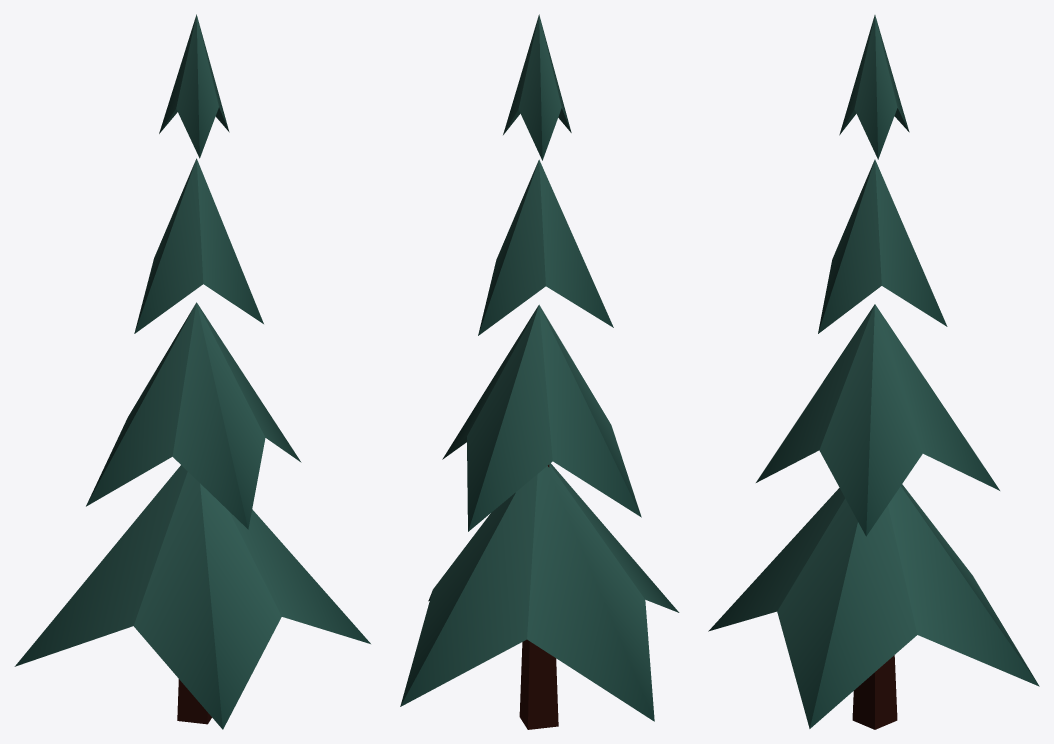
Rendered from rs_spruce_a_far.glb.
3 views of the same model, side by side, from view 1: azimuth 30°, elevation 25°; view 2: azimuth 150°, elevation 25°; view 3: azimuth 270°, elevation 25° (orthographic).
Visible parts, largest first — view 1: spruce_crown, spruce_trunk; view 2: spruce_crown, spruce_trunk; view 3: spruce_crown, spruce_trunk.
Part boxes in pixels (bbox=[...]): spruce_crown: bbox=[14, 14, 370, 729]; spruce_trunk: bbox=[177, 679, 211, 724]; spruce_crown: bbox=[400, 14, 679, 721]; spruce_trunk: bbox=[519, 464, 558, 729]; spruce_crown: bbox=[708, 15, 1039, 728]; spruce_trunk: bbox=[852, 655, 897, 729].
Size of the model in its own units: 0.451 by 1.04 by 0.4426.
